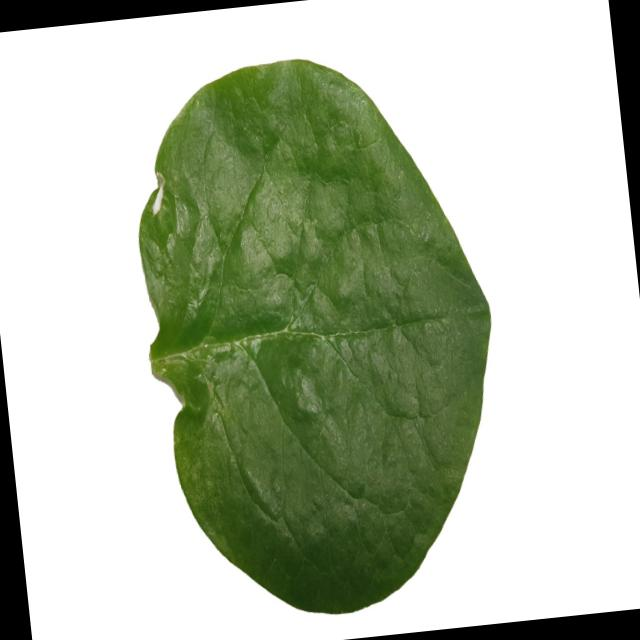Medicinal-Basale: (118, 36, 519, 629)
